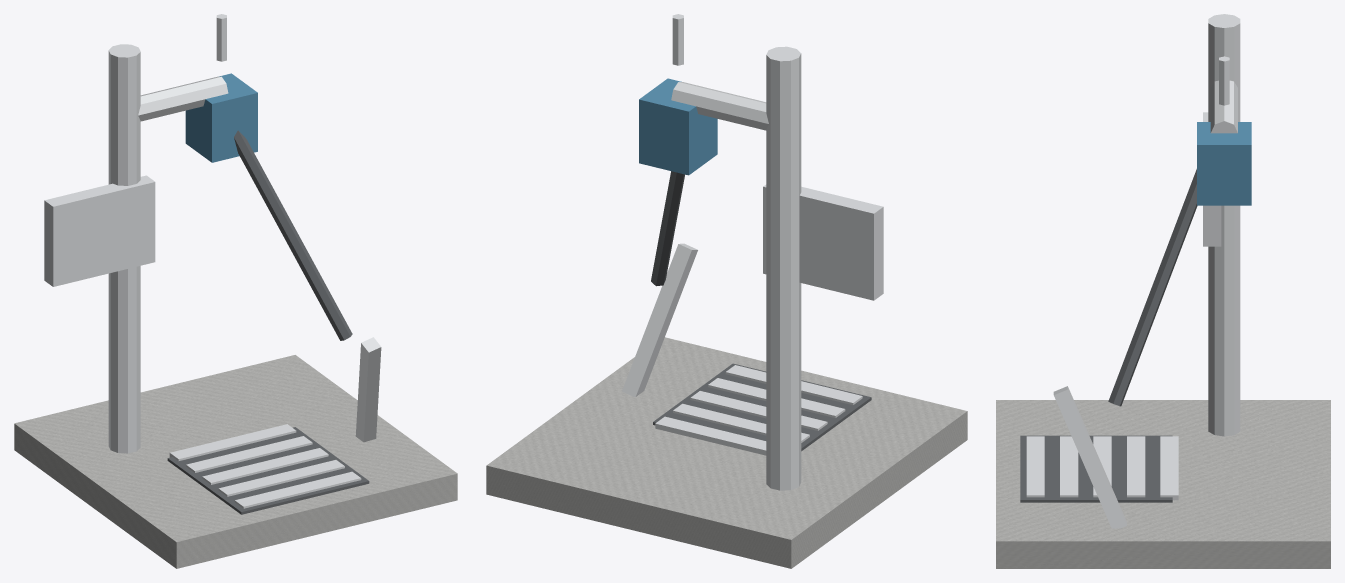
Rendered from fish-market-and-trawler-quay-fish-market-and-trawler-q-7417c179__37305.glb.
The picture shows the model from 3 angles, left to right: view 1: azimuth 30°, elevation 25°; view 2: azimuth 150°, elevation 25°; view 3: azimuth 270°, elevation 25°; orthographic projection. The views are drawn at different scales.
Visible parts, largest first — view 1: fish-market-and-trawler-quay-wash-down-point; view 2: fish-market-and-trawler-quay-wash-down-point; view 3: fish-market-and-trawler-quay-wash-down-point.
Boxes of the visible parts, x1,y1,x2,y2 form: fish-market-and-trawler-quay-wash-down-point: (14,14,457,568); fish-market-and-trawler-quay-wash-down-point: (486,14,967,568); fish-market-and-trawler-quay-wash-down-point: (996,14,1330,568).
Bounding box in the file's own units: 1.19 × 1.62 × 1.1.
4 materials, 1 textured.
